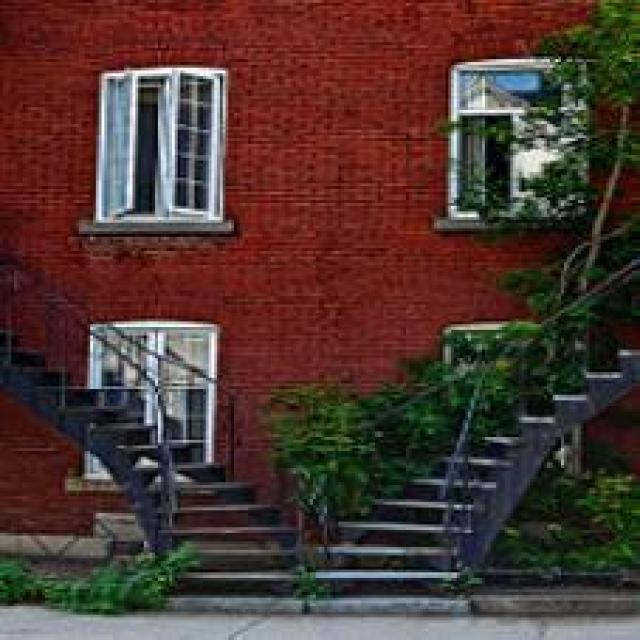upstair: (97, 368, 511, 590)
